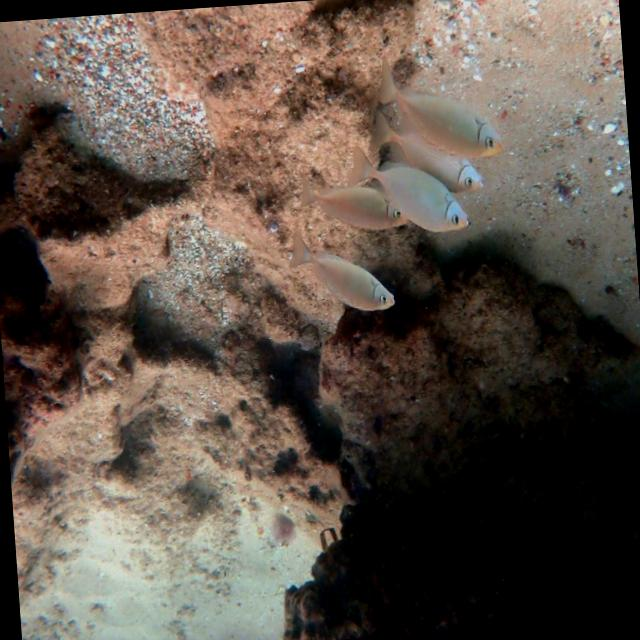Sokar Baligi: (285, 218, 408, 326)
